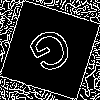G: (24, 24, 81, 84)
